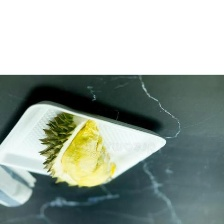foam_box: (0, 96, 170, 191)
